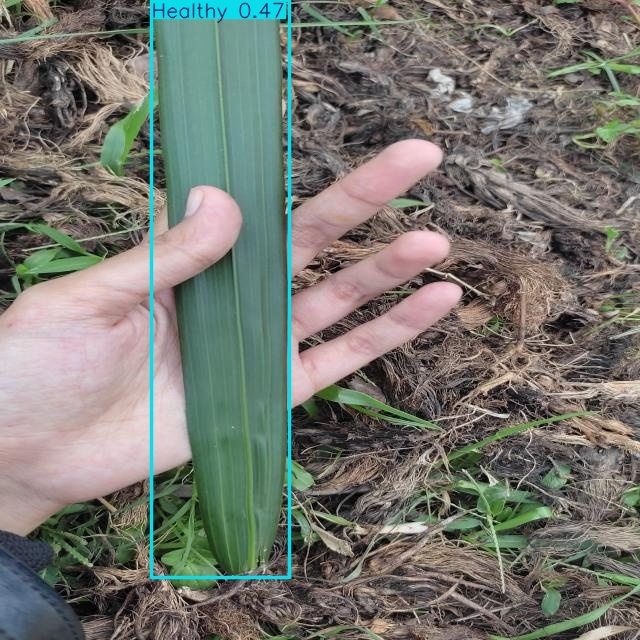Healthy: (152, 0, 290, 577)
